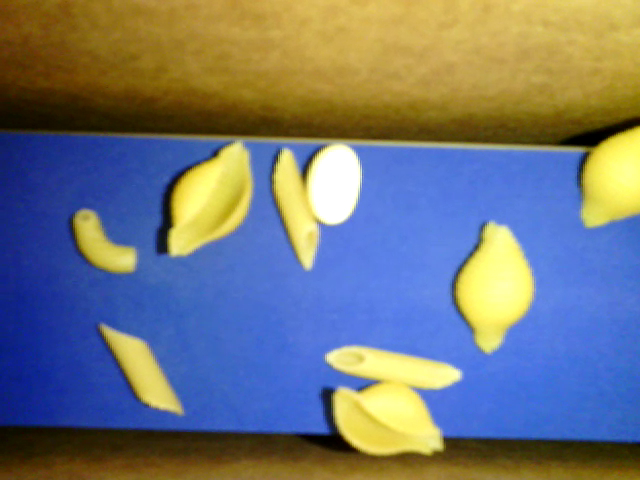elbow: (74, 208, 137, 273)
penne: (99, 322, 185, 416), (323, 343, 462, 391), (273, 148, 321, 270)
shell: (454, 218, 536, 354), (167, 140, 252, 257), (330, 380, 444, 458), (580, 125, 639, 230)
